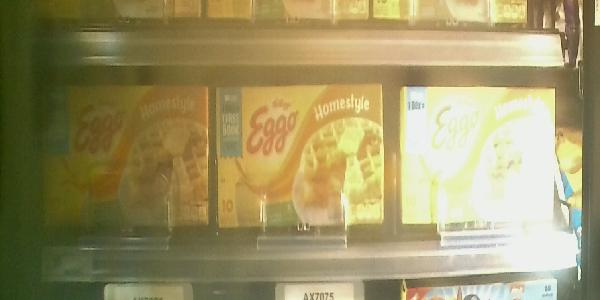icecream: (28, 85, 207, 233), (216, 86, 383, 231), (402, 89, 557, 228)
